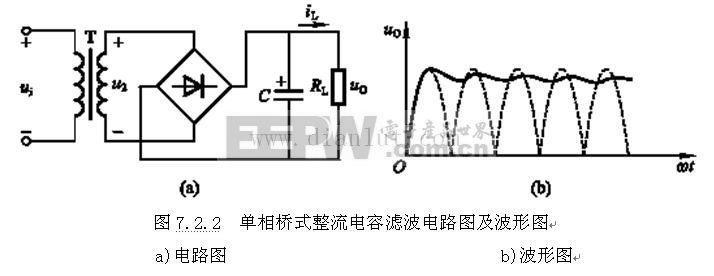bridge: (152, 42, 235, 129)
cap1: (271, 74, 306, 106)
res1: (328, 62, 349, 110)
trans: (67, 21, 113, 152)
